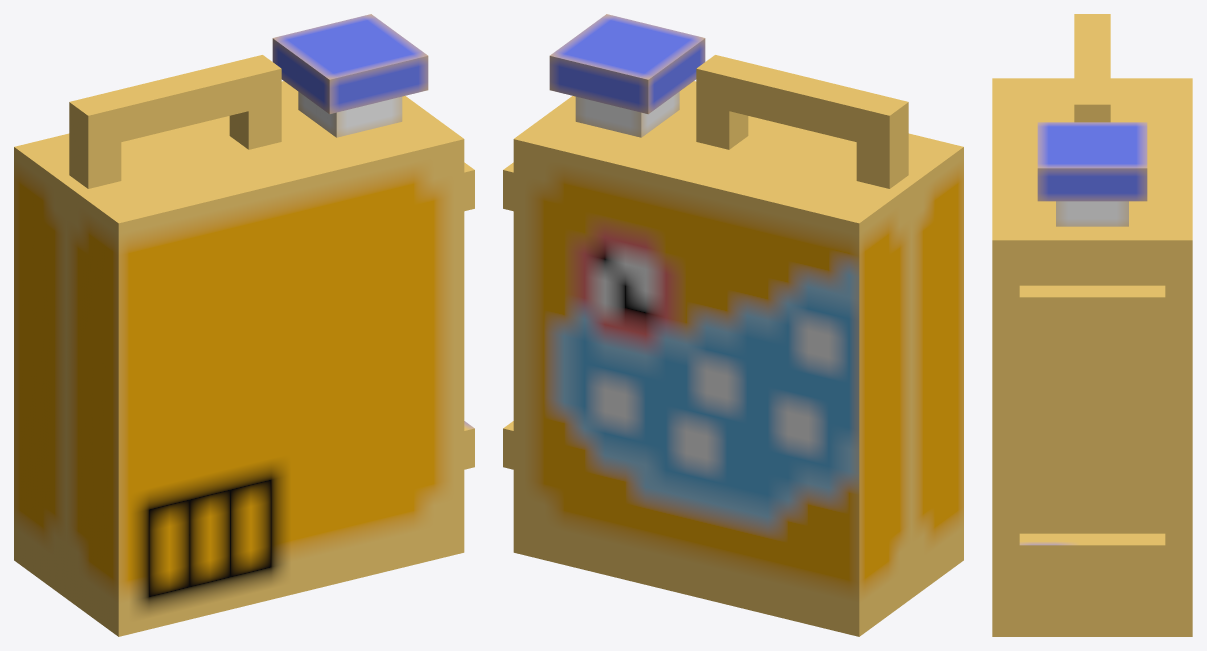
File: detergent.model.fbx
The picture shows the model from 3 angles, left to right: view 1: azimuth 30°, elevation 25°; view 2: azimuth 150°, elevation 25°; view 3: azimuth 270°, elevation 25°; orthographic projection. The views are drawn at different scales.
Parts seen in each view (by area): view 1: cube, cube_1, cube_4, cube_5, cube_3, cube_2; view 2: cube, cube_1, cube_4, cube_5, cube_3, cube_2; view 3: cube, cube_1, cube_7, cube_6, cube_4, cube_2, cube_3, cube_5.
Boxes of the visible parts, bbox=[...] form: cube: bbox=[14, 81, 464, 636]; cube_1: bbox=[272, 14, 428, 114]; cube_4: bbox=[103, 63, 248, 141]; cube_5: bbox=[69, 94, 121, 188]; cube_3: bbox=[229, 55, 281, 149]; cube_2: bbox=[298, 92, 402, 137]; cube: bbox=[513, 81, 963, 636]; cube_1: bbox=[549, 14, 705, 114]; cube_4: bbox=[729, 63, 874, 141]; cube_5: bbox=[856, 94, 908, 188]; cube_3: bbox=[696, 55, 748, 149]; cube_2: bbox=[575, 92, 679, 137]; cube: bbox=[992, 78, 1192, 636]; cube_1: bbox=[1037, 122, 1147, 201]; cube_7: bbox=[1019, 285, 1165, 334]; cube_6: bbox=[1019, 533, 1165, 582]; cube_4: bbox=[1074, 29, 1110, 88]; cube_2: bbox=[1056, 201, 1128, 226]; cube_3: bbox=[1074, 89, 1110, 122]; cube_5: bbox=[1074, 14, 1110, 29].
Bounding box in the file's own units: 14.06 × 17.66 × 6.88.
